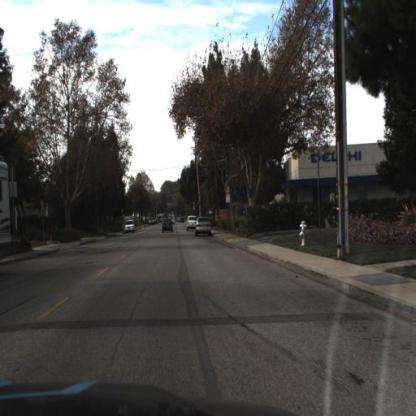car: (194, 213, 215, 239), (195, 217, 213, 240), (161, 215, 176, 234), (123, 218, 137, 236), (187, 215, 199, 234)
